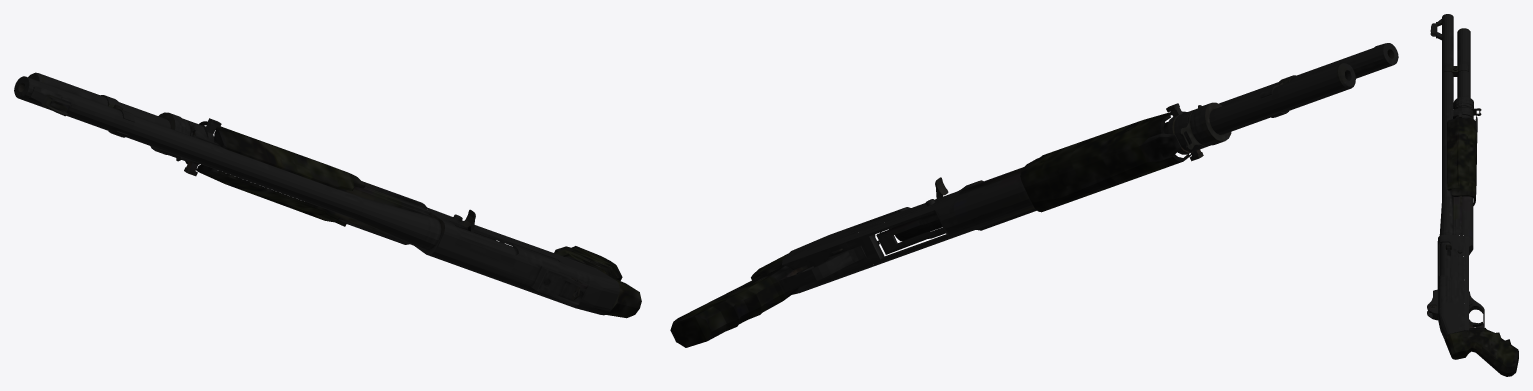
The model's file is tank-shotgun.glb.
3 renders of one model, left to right at view 1: azimuth 30°, elevation 25°; view 2: azimuth 150°, elevation 25°; view 3: azimuth 270°, elevation 25°, orthographic. The views are drawn at different scales.
Parts seen in each view (by area): view 1: geometry_0; view 2: geometry_0; view 3: geometry_0.
Boxes of the visible parts, box(x1,y1,x2,y2) form: geometry_0: box(14, 72, 641, 318); geometry_0: box(670, 43, 1398, 347); geometry_0: box(1427, 14, 1518, 376).
Size of the model in its own units: 0.6719 by 0.3987 by 0.1611.
1 material, 1 textured.
